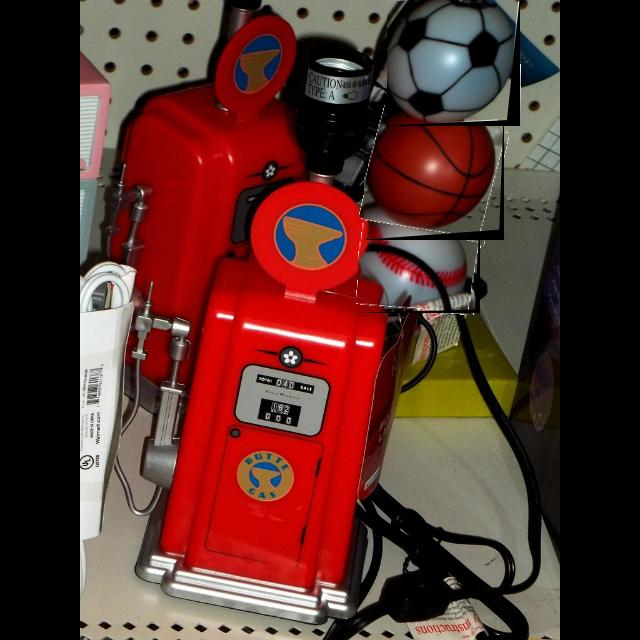Football: (364, 112, 504, 240), (387, 0, 520, 126), (358, 215, 480, 313)
